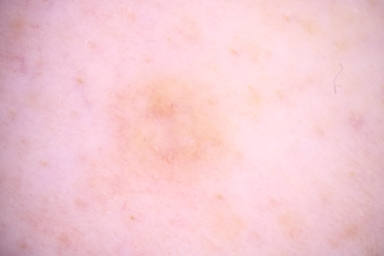nevus: (124, 84, 199, 161)
